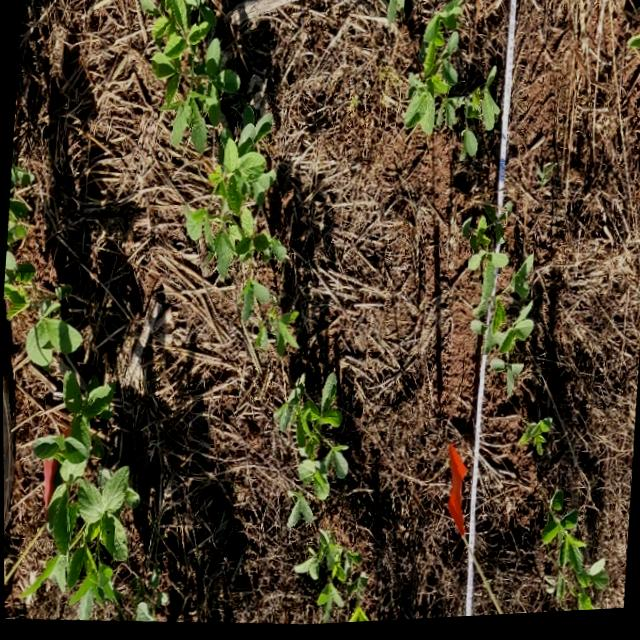soy_plant: (2, 165, 138, 621), (139, 0, 285, 282), (461, 212, 533, 401), (404, 0, 499, 138), (274, 377, 346, 530), (540, 497, 608, 617), (294, 534, 367, 627), (239, 280, 297, 358), (132, 579, 163, 622), (517, 423, 551, 461), (381, 0, 408, 26), (462, 131, 477, 161)
